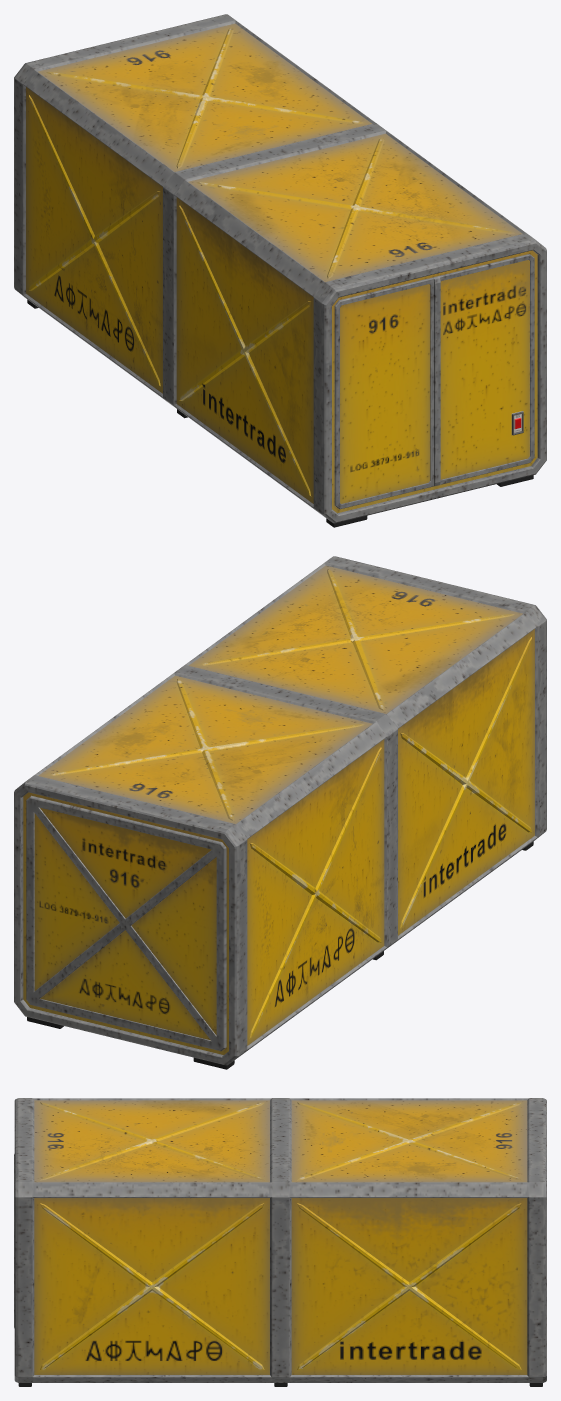
Rendered from c3_intertrade_alt.fbx.
3 views of the same model, one above another, from view 1: azimuth 30°, elevation 25°; view 2: azimuth 150°, elevation 25°; view 3: azimuth 270°, elevation 25° (orthographic). The views are drawn at different scales.
Visible parts, largest first — view 1: Wand_links, Dach, Luke, Rahmen, Luke_Rahmen; view 2: Wand_links, Dach, Front, Rahmen, Front_Rahmen; view 3: Wand_rechts, Dach, Rahmen.
Boxes of the visible parts, x1,y1,x2,y2 form: Wand_links: (26,87,313,503); Dach: (38,23,522,282); Luke: (332,250,537,513); Rahmen: (14,14,546,523); Luke_Rahmen: (334,254,534,509); Wand_links: (247,629,534,1045); Dach: (38,565,522,823); Front: (23,792,228,1054); Rahmen: (14,556,546,1065); Front_Rahmen: (26,795,226,1051); Wand_rechts: (34,1198,527,1374); Dach: (34,1100,527,1182); Rahmen: (14,1098,546,1382).
Bounding box in the file's own units: 5 × 5.11 × 12.01.
